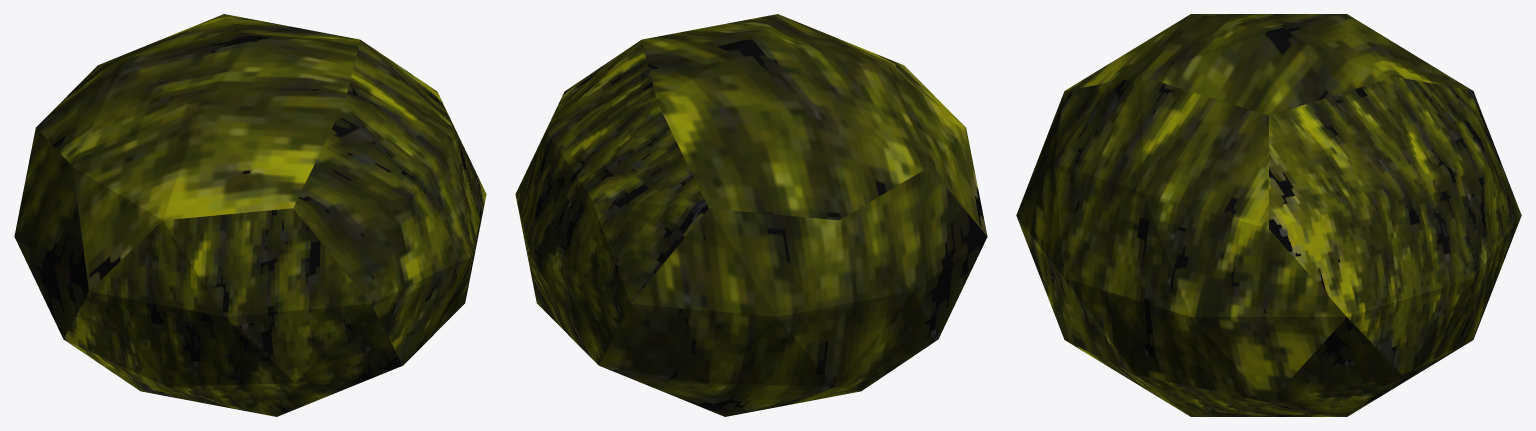
The model's file is Bush.fbx.
3 renders of one model, left to right at view 1: azimuth 30°, elevation 25°; view 2: azimuth 150°, elevation 25°; view 3: azimuth 270°, elevation 25°, orthographic. The views are drawn at different scales.
Parts seen in each view (by area): view 1: Icosphere; view 2: Icosphere; view 3: Icosphere.
Boxes of the visible parts, x1,y1,x2,y2 form: Icosphere: [14, 14, 486, 416]; Icosphere: [515, 14, 987, 416]; Icosphere: [1016, 14, 1521, 416].
Bounding box in the file's own units: 69.32 × 54.03 × 72.89.
1 material, 1 textured.
